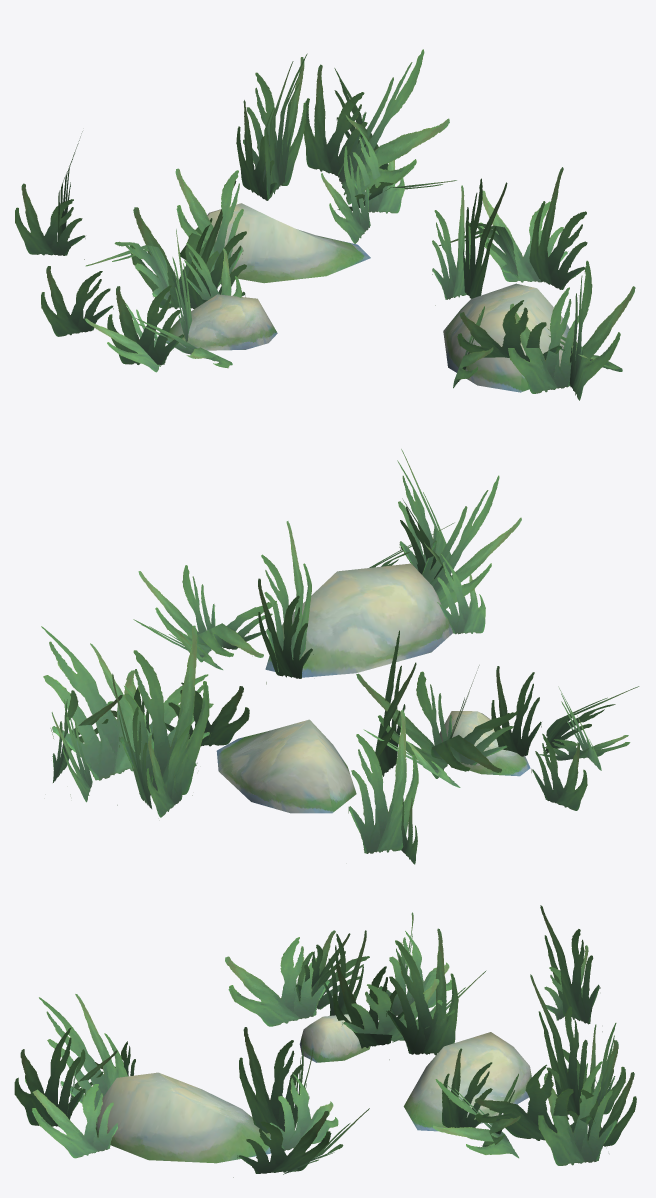
The model's file is P_plant_1315.fbx.
3 renders of one model, top to bottom at view 1: azimuth 30°, elevation 25°; view 2: azimuth 150°, elevation 25°; view 3: azimuth 270°, elevation 25°, orthographic. The views are drawn at different scales.
Visible parts, largest first — view 1: P_plant_1315; view 2: P_plant_1315; view 3: P_plant_1315.
Part boxes in pixels (x1,y1,x2,y2): P_plant_1315: [15, 49, 635, 400]; P_plant_1315: [41, 449, 639, 864]; P_plant_1315: [14, 905, 636, 1177].
Bounding box in the file's own units: 3.31 × 0.9985 × 3.85.
1 material, 1 textured.
